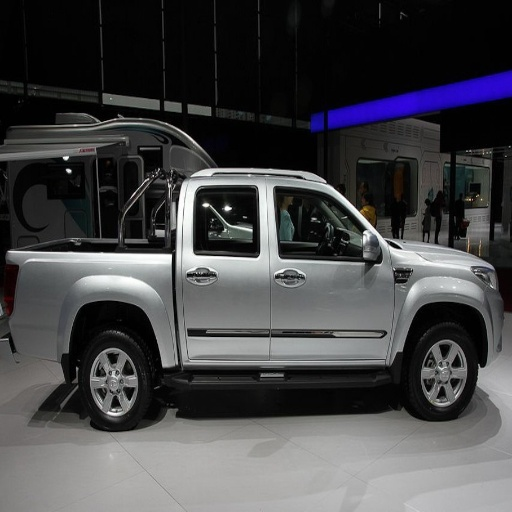back_right_door: (182, 177, 269, 360)
front_right_door: (269, 178, 394, 360)
trunk: (12, 256, 175, 366)
